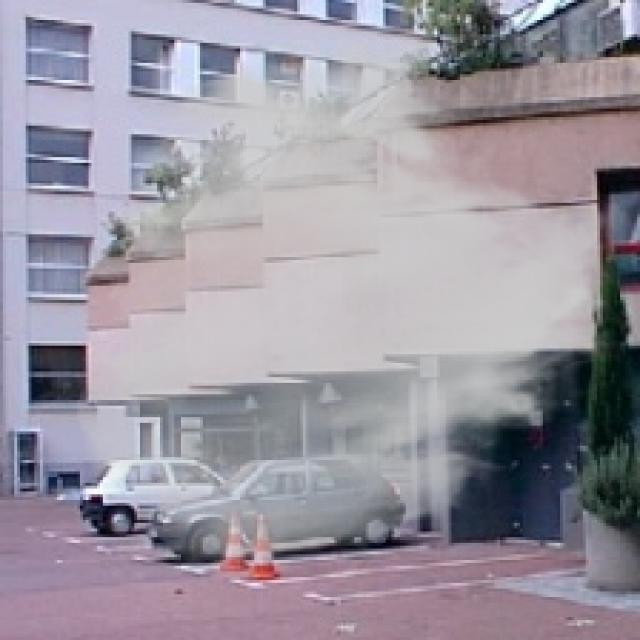Smoke: (71, 31, 632, 578)
